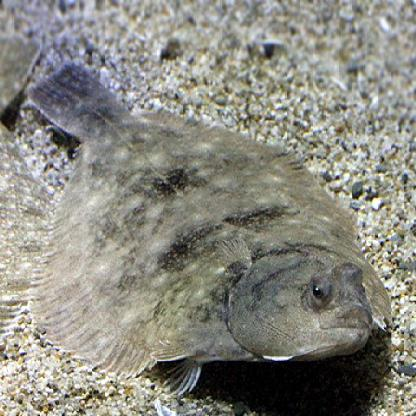flounder: (20, 47, 392, 385)
